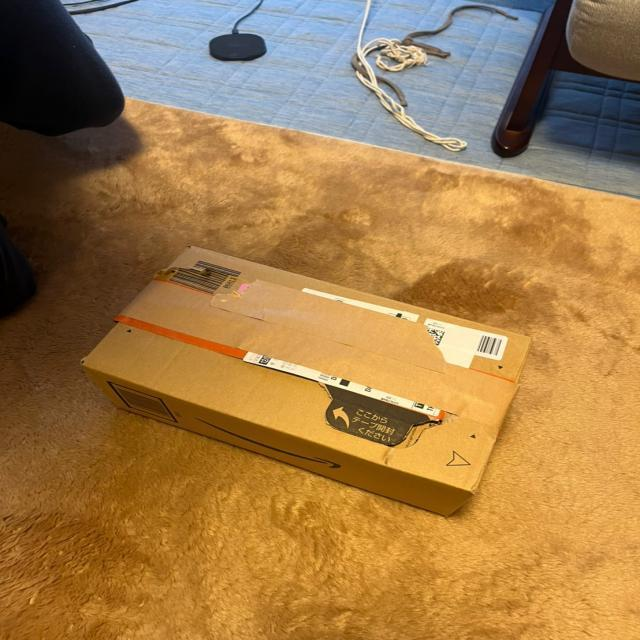box: (75, 239, 541, 525)
